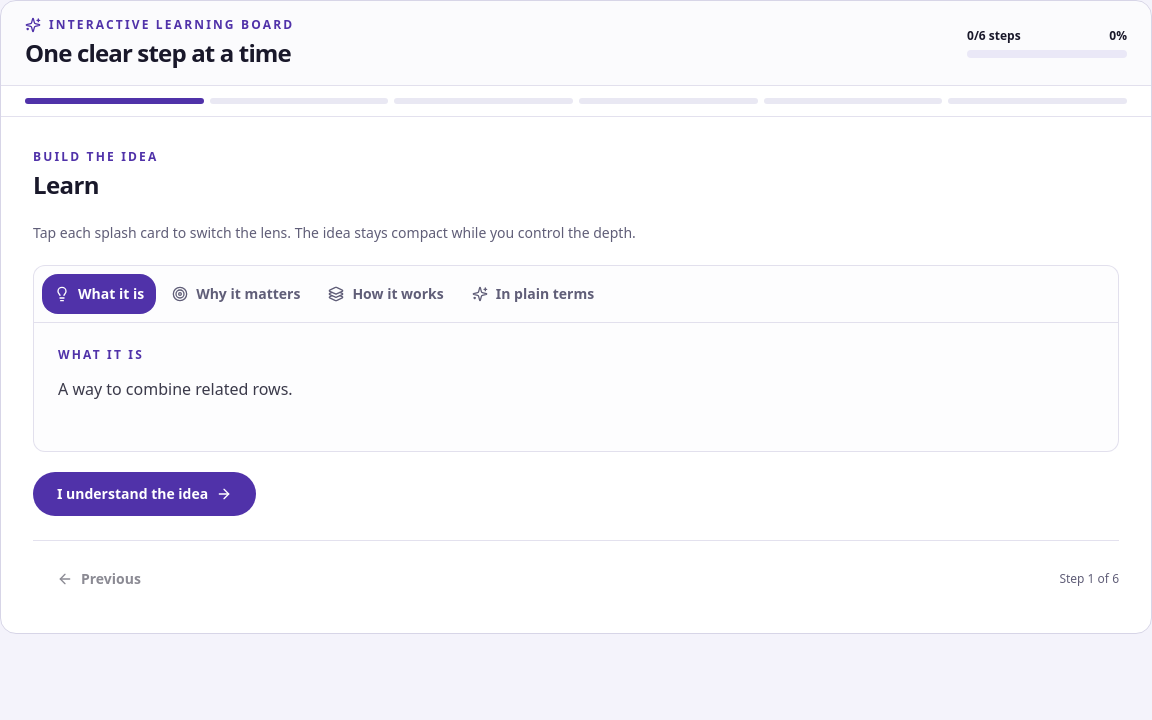
Test: TopicLearningBoard › advances to and highlights the next step when a step is completed
What coordinates should you click on to do the following:
click the button "I understand the idea"
I would click on:
 (145, 494)
Its box is [33, 472, 256, 516].
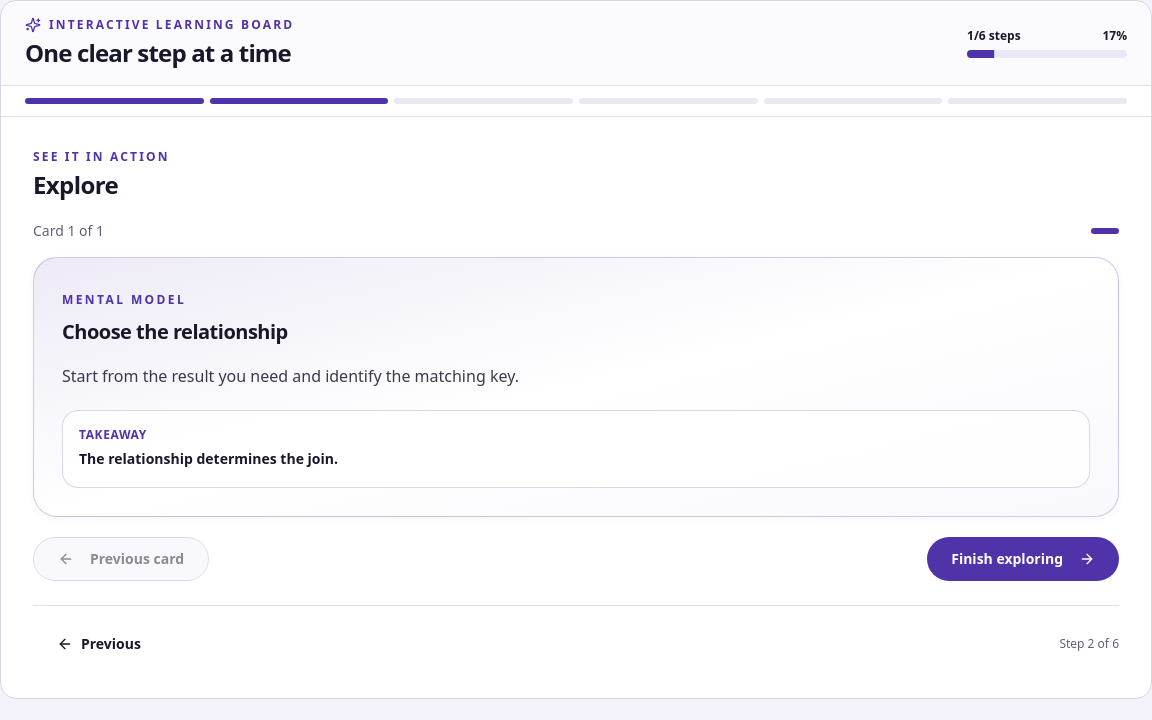
Expected: the heading "Explore" is shown, [33, 168, 118, 201]
Expected: the progress indicator named "17% of board steps complete" is shown, [967, 50, 1127, 58]
